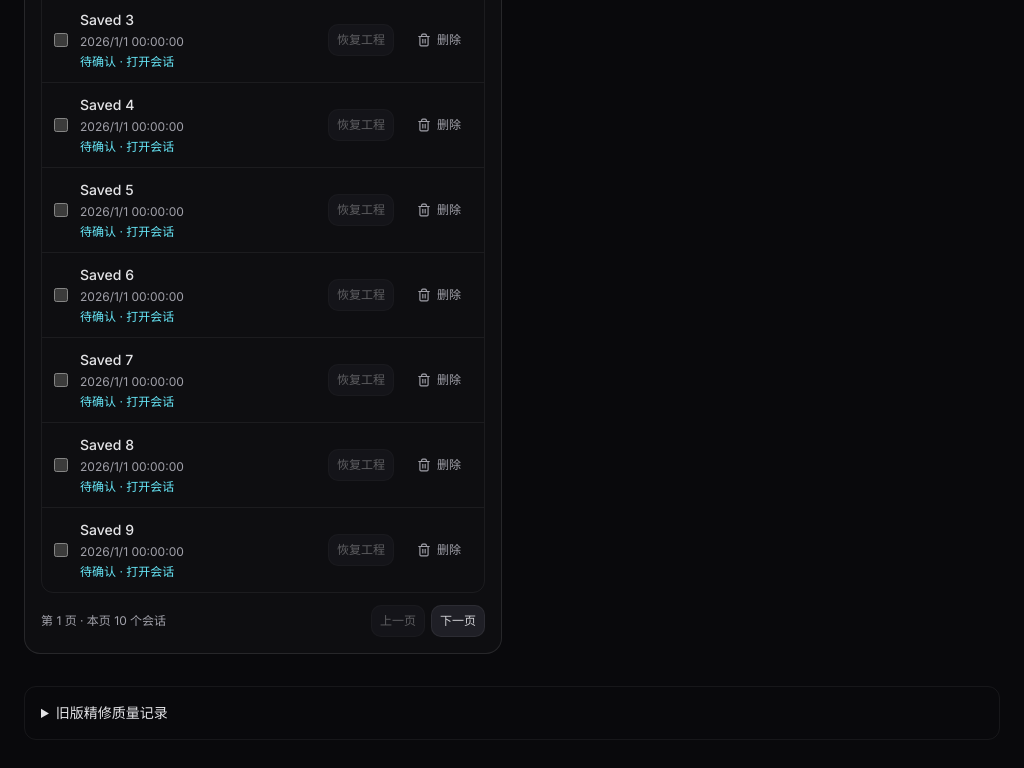
it: fetches older refinement pages from the server beyond the former 50-record cutoff
(page scrolled)
Click the button with aria-label "下一页精修会话": (458, 621) [431,605,485,637]
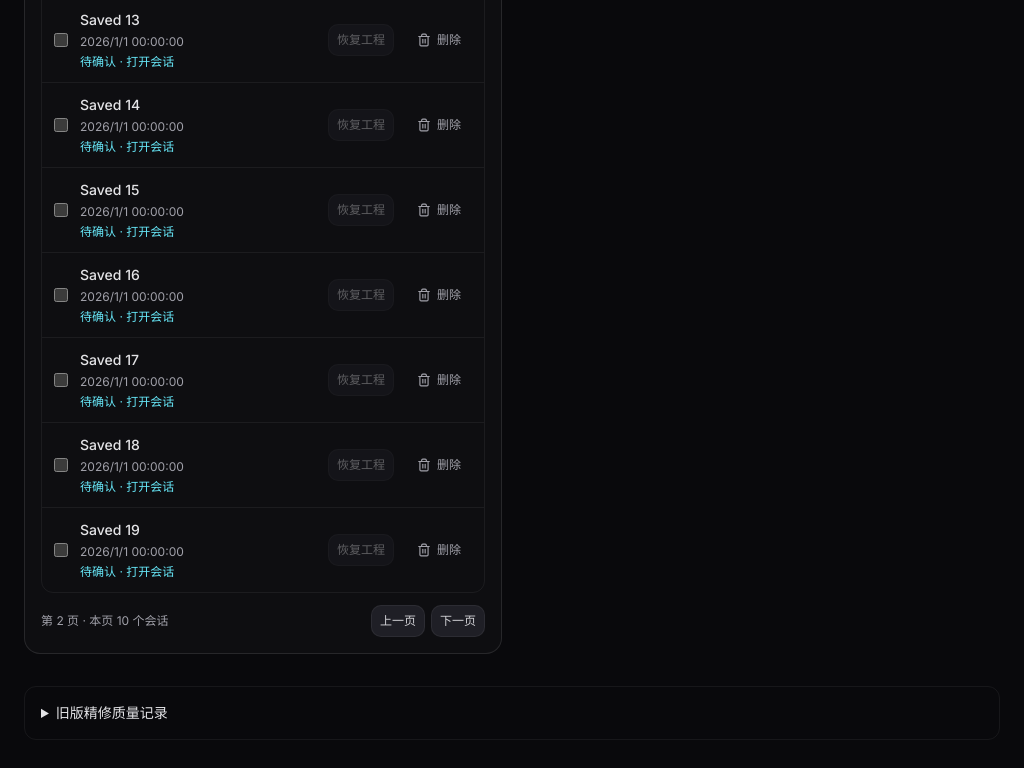
Click the button with aria-label "下一页精修会话": (458, 621) [431,605,485,637]
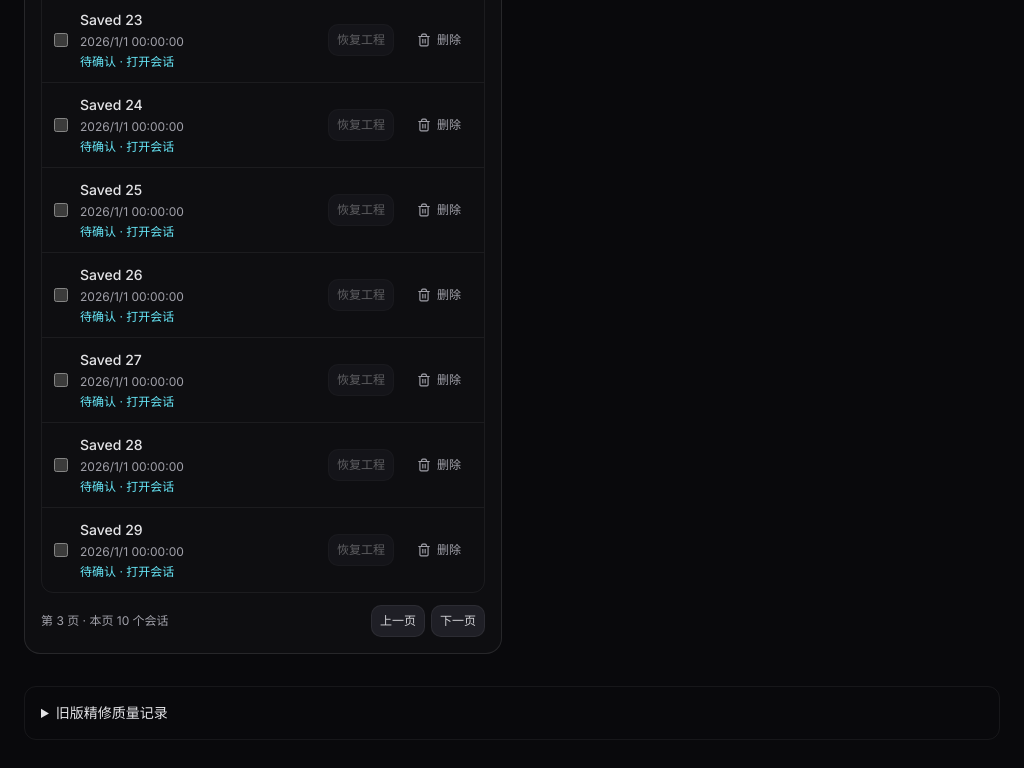
Click the button with aria-label "下一页精修会话": (458, 621) [431,605,485,637]
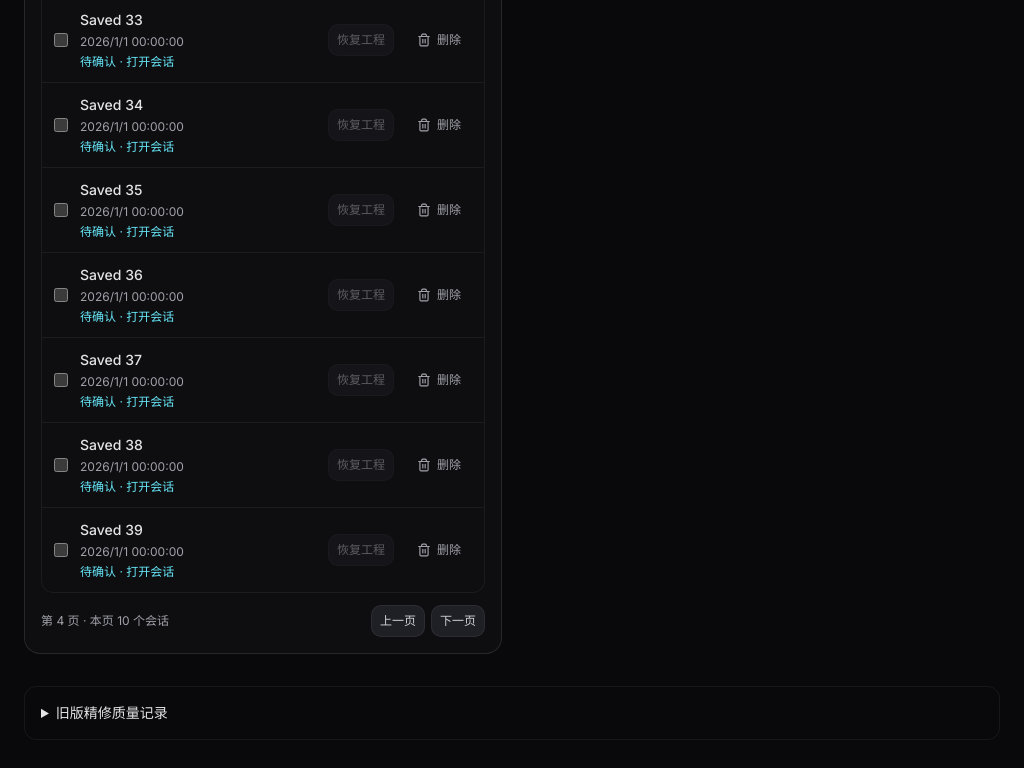
Click the button with aria-label "下一页精修会话": (458, 621) [431,605,485,637]
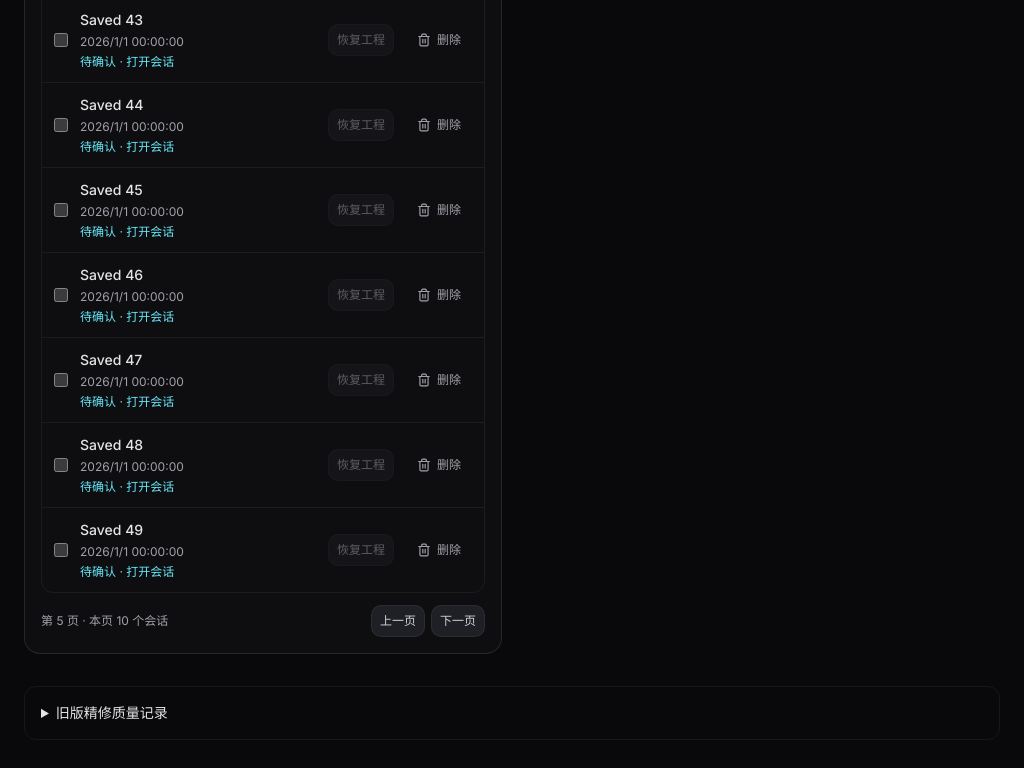
Click the button with aria-label "下一页精修会话": (458, 621) [431,605,485,637]
(page scrolled)
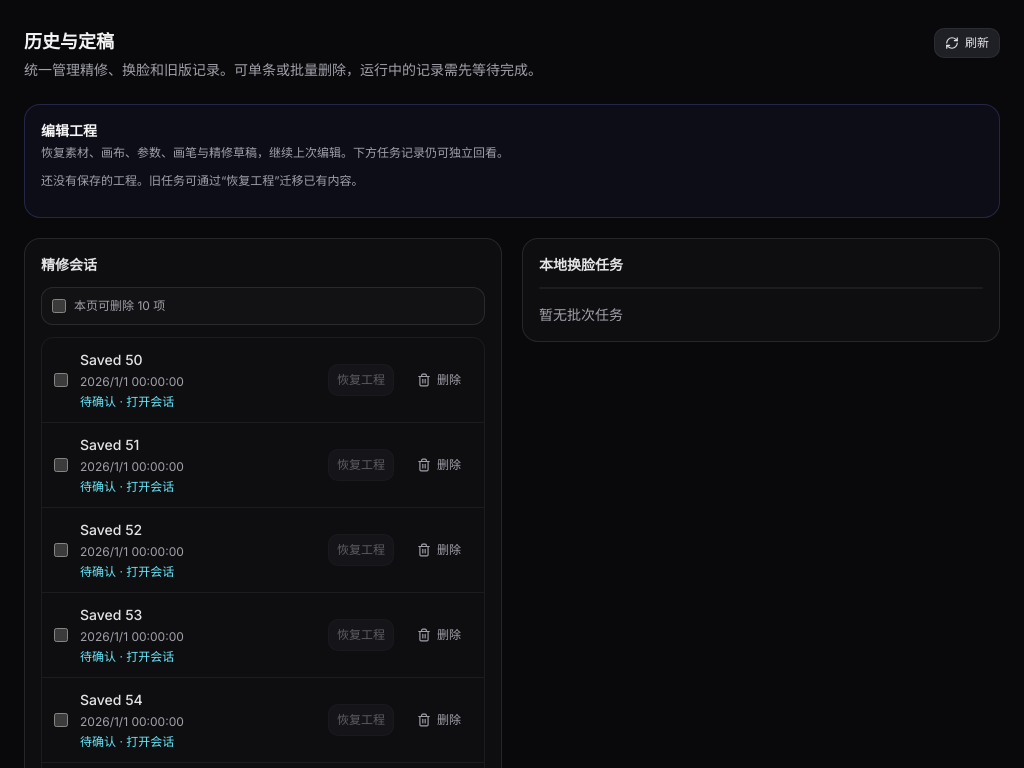
Expected: the text "Saved 50" is shown, [80,351,143,368]
